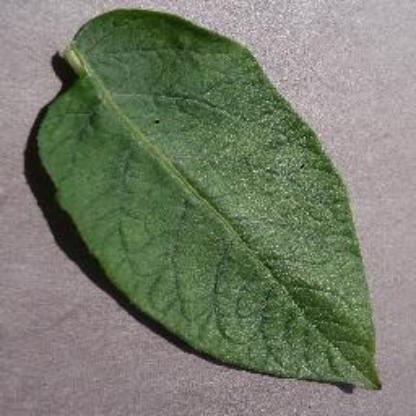Healthy-plant: (0, 14, 396, 376)
